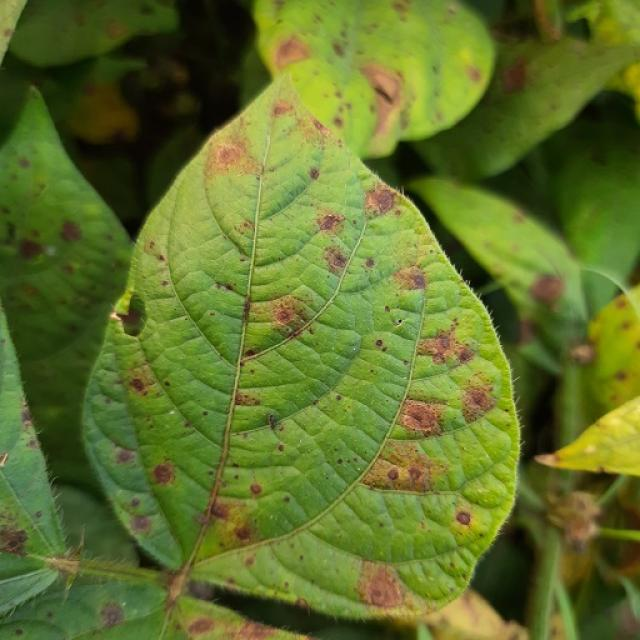Anthracnose: (367, 440, 449, 491), (357, 62, 405, 143), (416, 324, 478, 369), (202, 615, 303, 640), (386, 257, 438, 297), (262, 296, 313, 334), (361, 564, 404, 609), (400, 400, 444, 435), (461, 383, 497, 423), (562, 509, 597, 546), (274, 35, 309, 68), (592, 13, 628, 45), (500, 59, 530, 95), (530, 274, 565, 304), (365, 185, 397, 216), (213, 142, 247, 170), (0, 525, 30, 556), (164, 570, 188, 606), (116, 303, 144, 333), (515, 316, 540, 348), (99, 602, 125, 629), (323, 246, 349, 272), (569, 342, 595, 366), (19, 238, 44, 261), (317, 213, 344, 233), (151, 462, 174, 485), (60, 220, 82, 243), (187, 617, 215, 635), (129, 514, 153, 534), (209, 500, 230, 520), (105, 20, 126, 40), (114, 447, 136, 465), (234, 391, 260, 406), (273, 100, 293, 116), (466, 64, 482, 84), (21, 283, 40, 299), (129, 377, 145, 393), (455, 510, 471, 526), (234, 526, 251, 541), (267, 413, 280, 431), (332, 41, 346, 57), (241, 299, 252, 316), (296, 597, 309, 611), (614, 297, 628, 309), (387, 467, 399, 480), (250, 483, 262, 495), (614, 370, 627, 381), (309, 168, 320, 180), (18, 157, 30, 168), (130, 497, 141, 508), (245, 349, 257, 358), (365, 258, 375, 268), (34, 510, 43, 519), (4, 28, 12, 37), (375, 339, 383, 347), (14, 628, 23, 635), (278, 444, 285, 452), (384, 305, 391, 312), (337, 458, 343, 465), (397, 318, 403, 325), (164, 381, 170, 387)
Blackgram: (85, 79, 518, 618)
